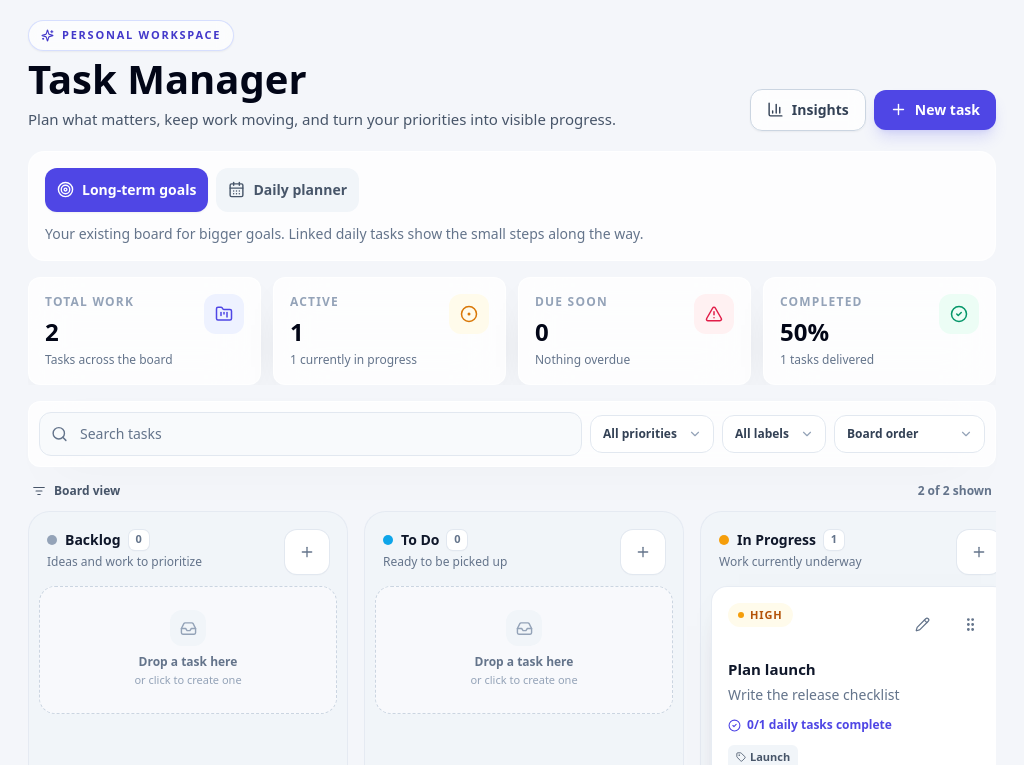
deleting a goal preserves its daily tasks and removes the link
Expected: the heading "Plan launch" is shown, x1=728 y1=658 x2=816 y2=678
Click the button named "Edit Plan launch": (922, 624) x1=900 y1=602 x2=944 y2=646
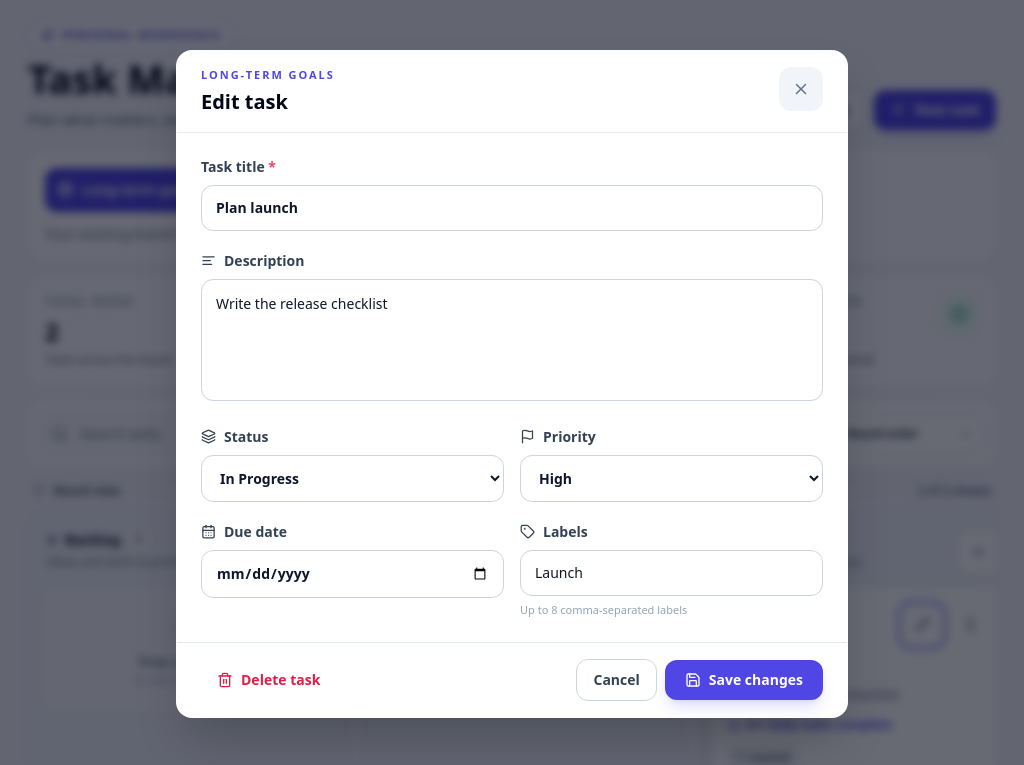
Click the button "Delete task": (269, 680) x1=201 y1=660 x2=336 y2=700
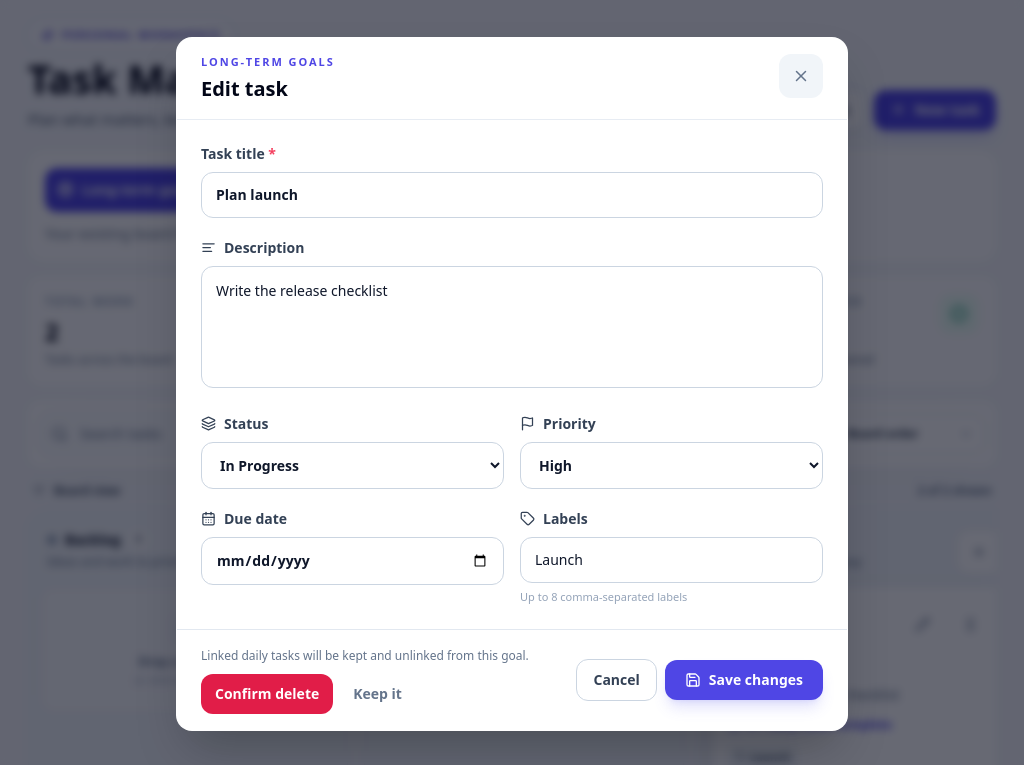
Click the button "Confirm delete": (267, 694) x1=201 y1=674 x2=333 y2=714
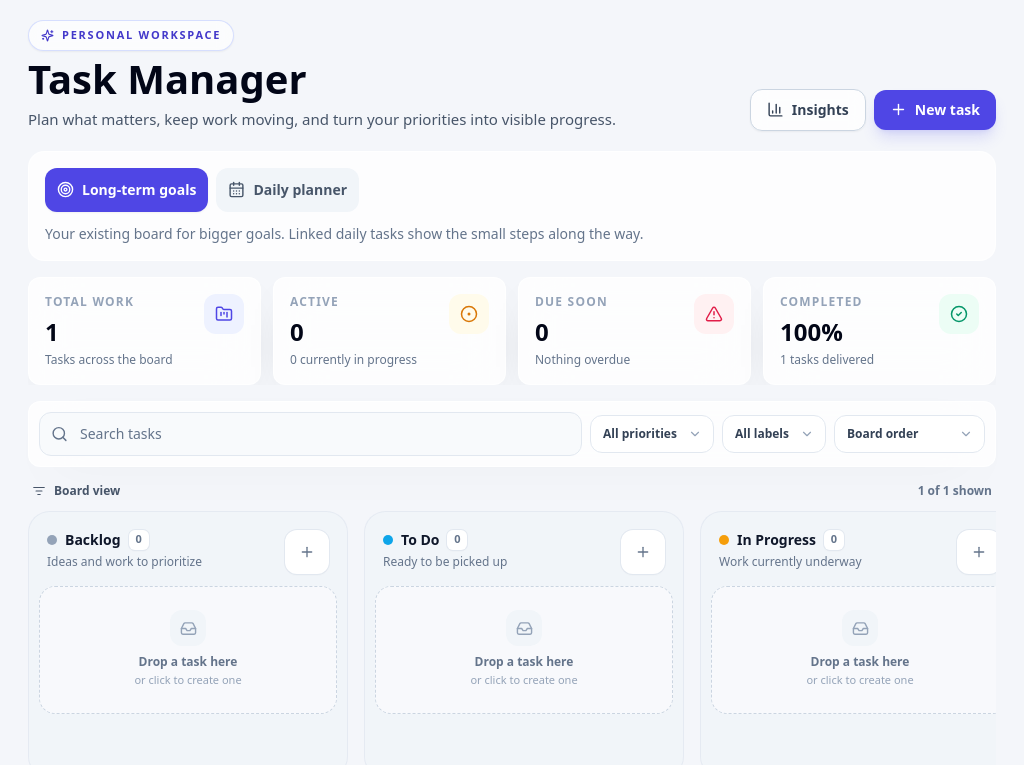
Result: the dialog is gone
Click the button "Daily planner": (288, 190) x1=216 y1=168 x2=359 y2=212
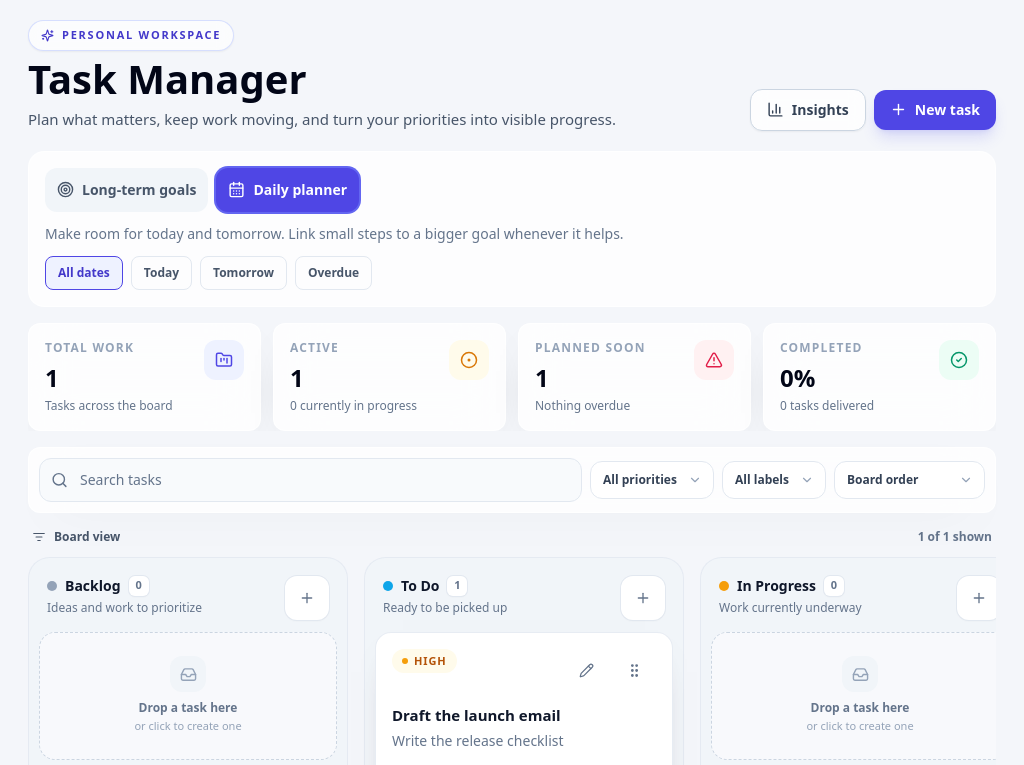
Result: the heading "Draft the launch email" is shown at x1=392 y1=704 x2=561 y2=724
